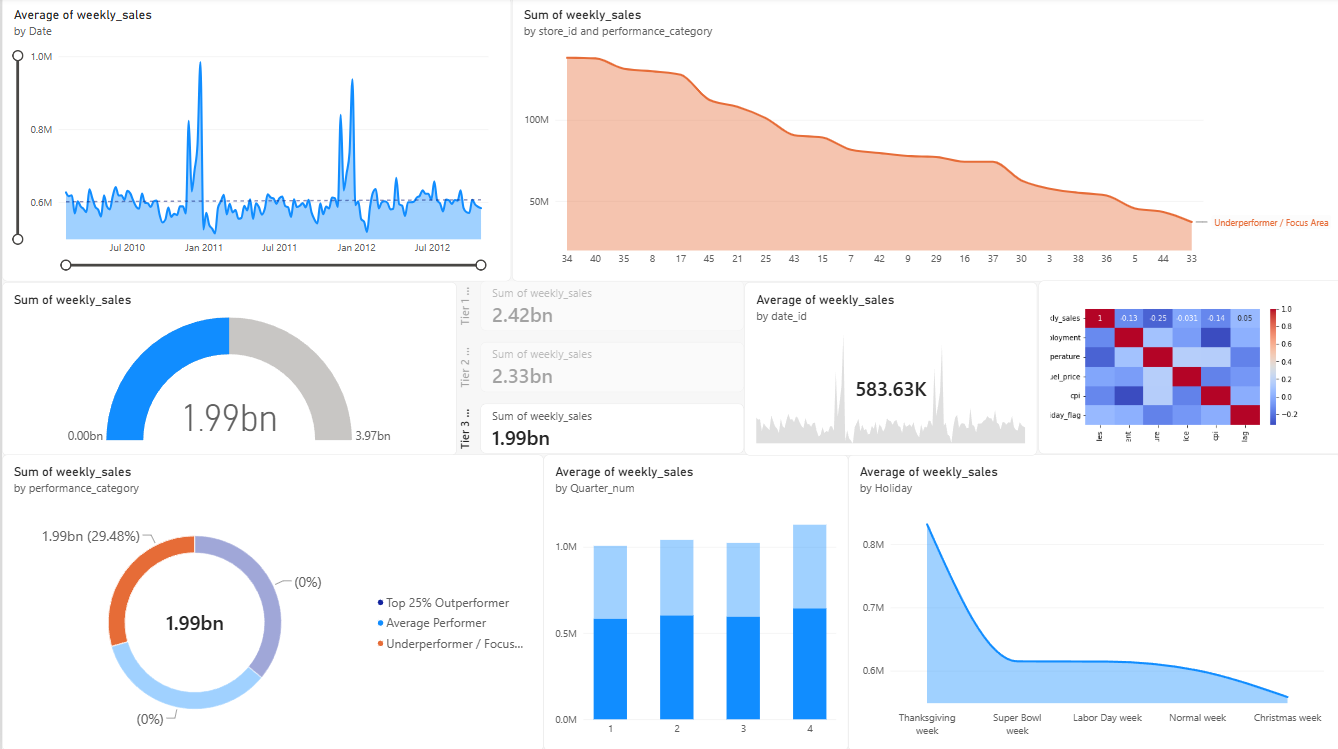

The page's visual inventory and layout, read from the dashboard file:
{"tool":"powerbi","page":{"name":"Page 1","canvas":[1920,1080],"ordinal":0},"visuals":[{"type":"areaChart","fields":{"Category":["Calendar.Date"],"Y":["Avg(sales fact_weekly_sales.weekly_sales)"]},"box":[0,0,729.5,407.4],"z":1000},{"type":"cardVisual","fields":{"Data":["Sum(sales fact_weekly_sales.weekly_sales)"],"Rows":["sales dim_store.sales_tier"]},"box":[651,406.1,412.3,248.9],"z":1001},{"type":"stackedAreaChart","fields":{"Category":["sales dim_date.Holiday"],"Y":["Avg(sales fact_weekly_sales.weekly_sales)"]},"box":[1212.6,656.3,707.5,424.5],"z":1002},{"type":"areaChart","fields":{"Category":["sales fact_weekly_sales.store_id"],"Series":["sales dim_store.performance_category"],"Y":["Sum(sales fact_weekly_sales.weekly_sales)"]},"box":[729.5,0,1190.6,407.4],"z":1003},{"type":"gauge","fields":{"Y":["Sum(sales fact_weekly_sales.weekly_sales)"]},"box":[0,407.4,651.4,248.9],"z":1004},{"type":"columnChart","fields":{"Category":["sales dim_date.Quarter_num"],"Y":["Avg(sales fact_weekly_sales.weekly_sales)"]},"box":[775.9,656.3,436.7,424.5],"z":1005},{"type":"kpi","fields":{"Indicator":["Avg(sales fact_weekly_sales.weekly_sales)"],"TrendLine":["sales fact_weekly_sales.date_id"]},"box":[1063.8,407.4,419.6,248.9],"z":1006},{"type":"pythonVisual","fields":{"Values":["sales fact_weekly_sales.weekly_sales","sales fact_weekly_sales.unemployment","sales fact_weekly_sales.temperature","sales fact_weekly_sales.fuel_price","Sum(sales fact_weekly_sales.cpi)","sales dim_date.Holiday_flag"]},"box":[1485.3,407,436.1,248.4],"z":1007},{"type":"donutChart","fields":{"Category":["sales dim_store.performance_category"],"Y":["Sum(sales fact_weekly_sales.weekly_sales)"]},"box":[0,656.3,775.9,424.5],"z":1008}]}

Visuals, with their boxes in screenshot pixels (x1, y1, x2, y2), scaled from the page's 1920x1080 canvas onto the 1338x749 screenshot:
areaChart - Calendar.Date x Avg(sales fact_weekly_sales.weekly_sales): BBox(0, 0, 508, 283)
cardVisual - Sum(sales fact_weekly_sales.weekly_sales) x sales dim_store.sales_tier: BBox(454, 282, 741, 454)
stackedAreaChart - sales dim_date.Holiday x Avg(sales fact_weekly_sales.weekly_sales): BBox(845, 455, 1337, 748)
areaChart - sales fact_weekly_sales.store_id x sales dim_store.performance_category: BBox(508, 0, 1337, 283)
gauge - Sum(sales fact_weekly_sales.weekly_sales): BBox(0, 283, 454, 455)
columnChart - sales dim_date.Quarter_num x Avg(sales fact_weekly_sales.weekly_sales): BBox(541, 455, 845, 748)
kpi - Avg(sales fact_weekly_sales.weekly_sales) x sales fact_weekly_sales.date_id: BBox(741, 283, 1034, 455)
pythonVisual - sales fact_weekly_sales.weekly_sales x sales fact_weekly_sales.unemployment: BBox(1035, 282, 1337, 455)
donutChart - sales dim_store.performance_category x Sum(sales fact_weekly_sales.weekly_sales): BBox(0, 455, 541, 748)
